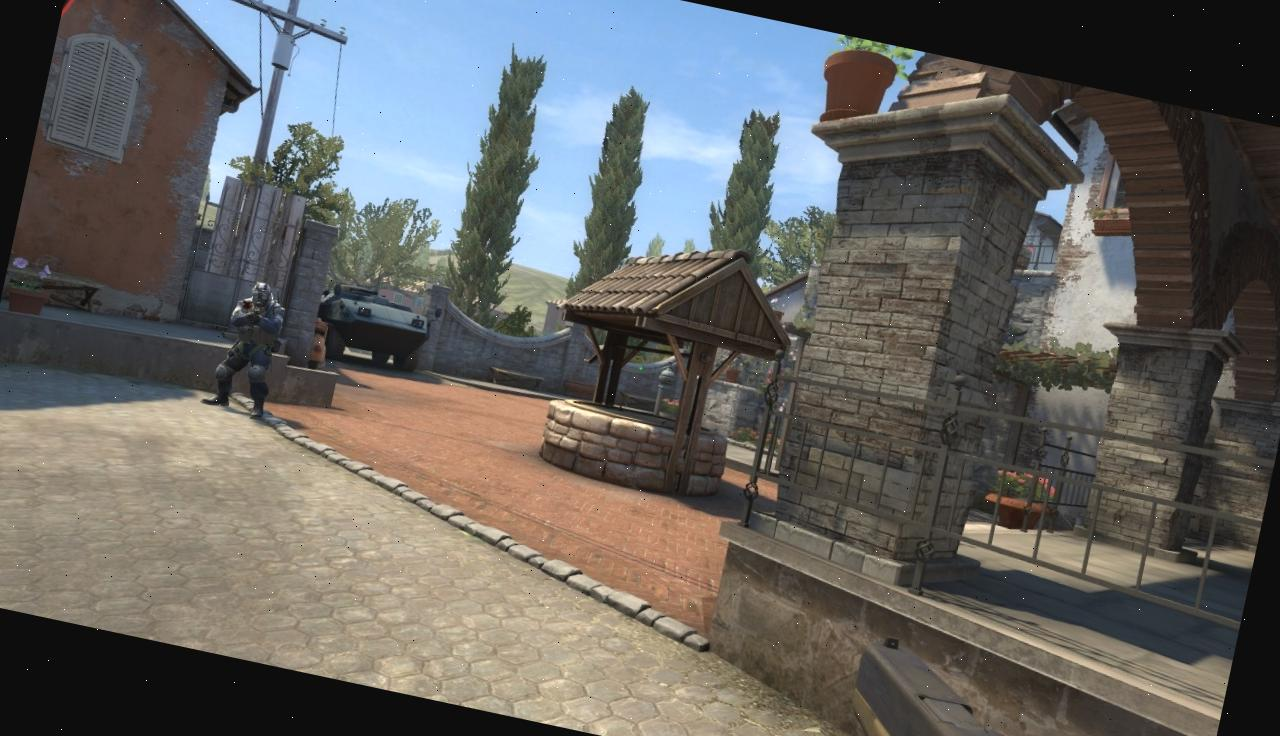ct: (212, 277, 288, 419)
cthead: (248, 280, 273, 312)
pistol: (825, 629, 1130, 736)
